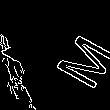M_NW: (34, 21, 110, 87)
